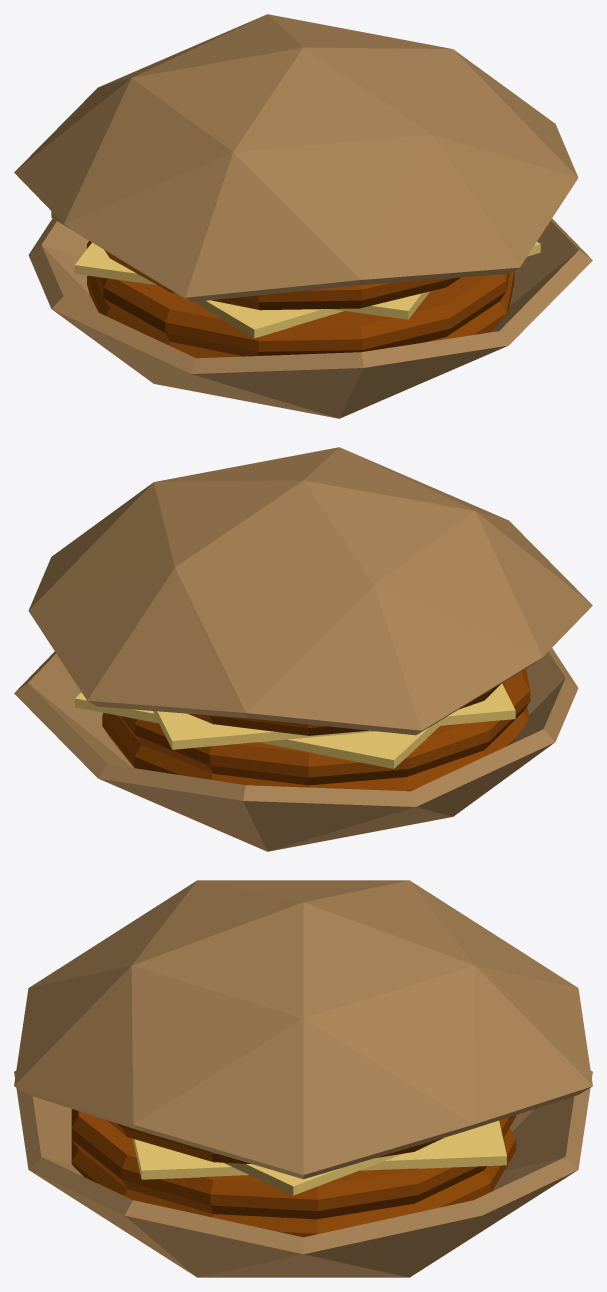
Rendered from Sandwich.fbx.
3 renders of one model, top to bottom at view 1: azimuth 30°, elevation 25°; view 2: azimuth 150°, elevation 25°; view 3: azimuth 270°, elevation 25°, orthographic. The views are drawn at different scales.
Parts seen in each view (by area): view 1: Sandwich; view 2: Sandwich; view 3: Sandwich.
Part boxes in pixels (x1,y1,x2,y2): Sandwich: (14, 14, 592, 418); Sandwich: (14, 447, 592, 851); Sandwich: (14, 880, 592, 1277).
Size of the model in its own units: 0.1052 by 0.0674 by 0.1001.
